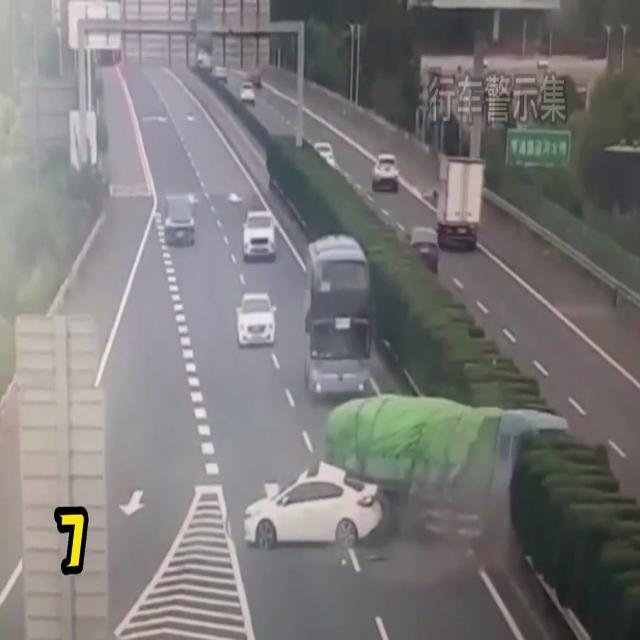multiple_accident: (223, 379, 588, 589)
normal: (46, 474, 100, 587)
